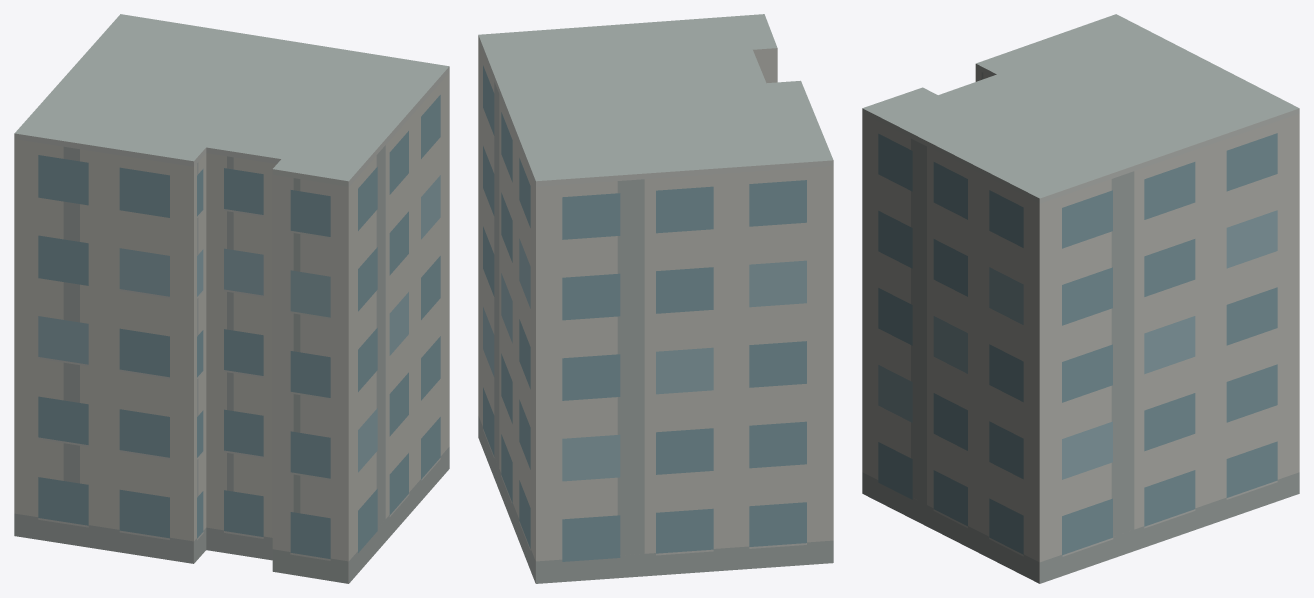
Rendered from survey-upis-32981328.glb.
3 views of the same model, side by side, from view 1: azimuth 30°, elevation 25°; view 2: azimuth 150°, elevation 25°; view 3: azimuth 270°, elevation 25° (orthographic). The views are drawn at different scales.
Visible parts, largest first — view 1: survey-upis-32981328.tmp; view 2: survey-upis-32981328.tmp; view 3: survey-upis-32981328.tmp.
Boxes of the visible parts, box(x1,y1,x2,y2) form: survey-upis-32981328.tmp: box(14, 14, 449, 583); survey-upis-32981328.tmp: box(478, 14, 833, 583); survey-upis-32981328.tmp: box(862, 14, 1299, 583).
Bounding box in the file's own units: 17.93 × 17.45 × 17.96.
